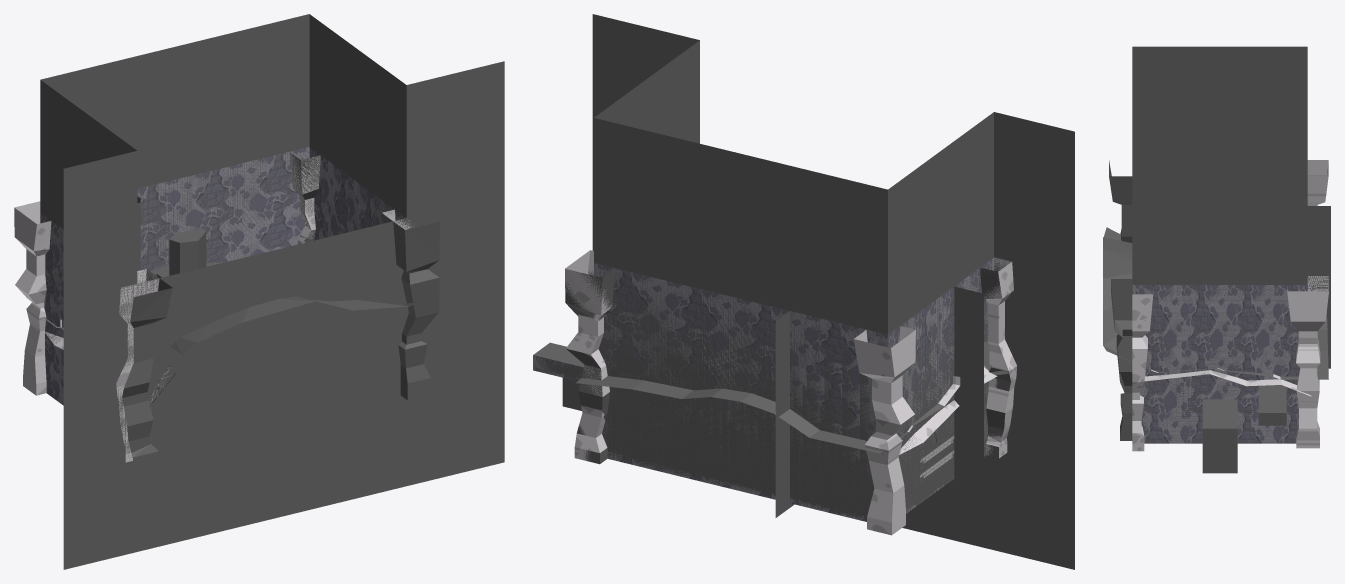
The model's file is jin_08_bake.dae.
3 views of the same model, side by side, from view 1: azimuth 30°, elevation 25°; view 2: azimuth 150°, elevation 25°; view 3: azimuth 270°, elevation 25° (orthographic). The views are drawn at different scales.
Parts seen in each view (by area): view 1: MASUKU, a_gawa02, polySurface882_q00057_part0, a_hashira01, polySurface42_q00055, a_hari01, a_oumu_bo; view 2: MASUKU, a_gawa02, polySurface882_q00057_part0, polySurface42_q00055, a_gawa01, a_hashira01, a_hari01, polySurface876_q00056, polySurface882_q00057_part1; view 3: MASUKU, polySurface882_q00057_part0, a_gawa02, polySurface42_q00055, a_hashira01, polySurface882_q00057_part1, a_hari01, a_gawa01, polySurface876_q00056.
Part boxes in pixels (x1,y1,x2,y2): MASUKU: (40, 14, 504, 569); a_gawa02: (40, 147, 406, 454); polySurface882_q00057_part0: (40, 147, 405, 404); a_hashira01: (122, 152, 439, 467); polySurface42_q00055: (14, 152, 412, 462); a_hari01: (45, 261, 421, 363); a_oumu_bo: (169, 229, 206, 275); MASUKU: (592, 14, 1074, 569); a_gawa02: (533, 258, 993, 520); polySurface882_q00057_part0: (533, 257, 993, 521); polySurface42_q00055: (565, 250, 1017, 535); a_gawa01: (775, 286, 983, 517); a_hashira01: (565, 268, 1010, 464); a_hari01: (576, 364, 991, 453); polySurface876_q00056: (602, 341, 997, 454); polySurface882_q00057_part1: (534, 342, 583, 410); MASUKU: (1132, 46, 1307, 284); polySurface882_q00057_part0: (1132, 285, 1307, 443); a_gawa02: (1132, 285, 1307, 473); polySurface42_q00055: (1132, 160, 1328, 451); a_hashira01: (1109, 160, 1328, 440); polySurface882_q00057_part1: (1202, 385, 1286, 473); a_hari01: (1103, 227, 1328, 379); a_gawa01: (1307, 206, 1330, 368); polySurface876_q00056: (1144, 351, 1311, 396).
Size of the model in its own units: 65.57 by 56.97 by 32.53.
